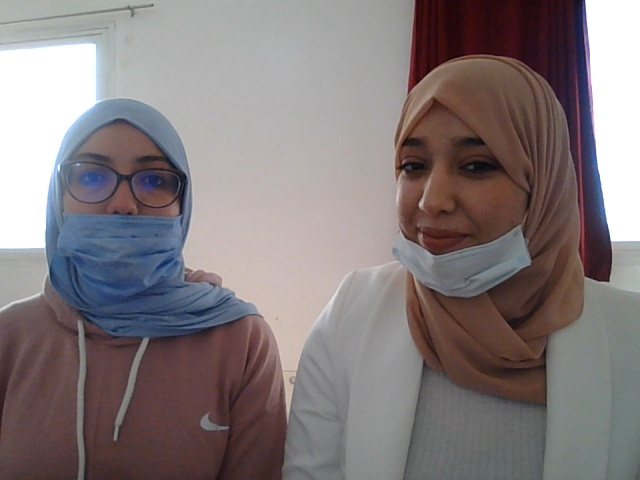mask_weared_incorrect: (368, 77, 551, 285), (52, 104, 198, 313)
